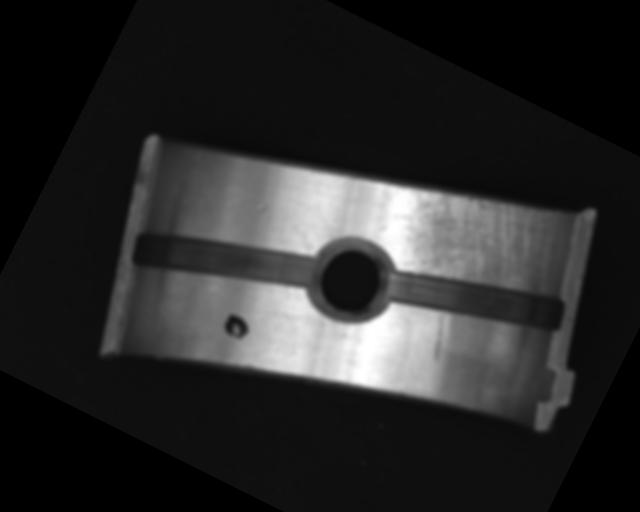blot: (219, 310, 254, 343)
bruise: (255, 200, 270, 216)
gap: (125, 181, 324, 339), (379, 225, 570, 372)
hole: (296, 225, 406, 336)
nick: (419, 308, 460, 363), (307, 206, 345, 242)
scratch: (373, 141, 582, 328)
